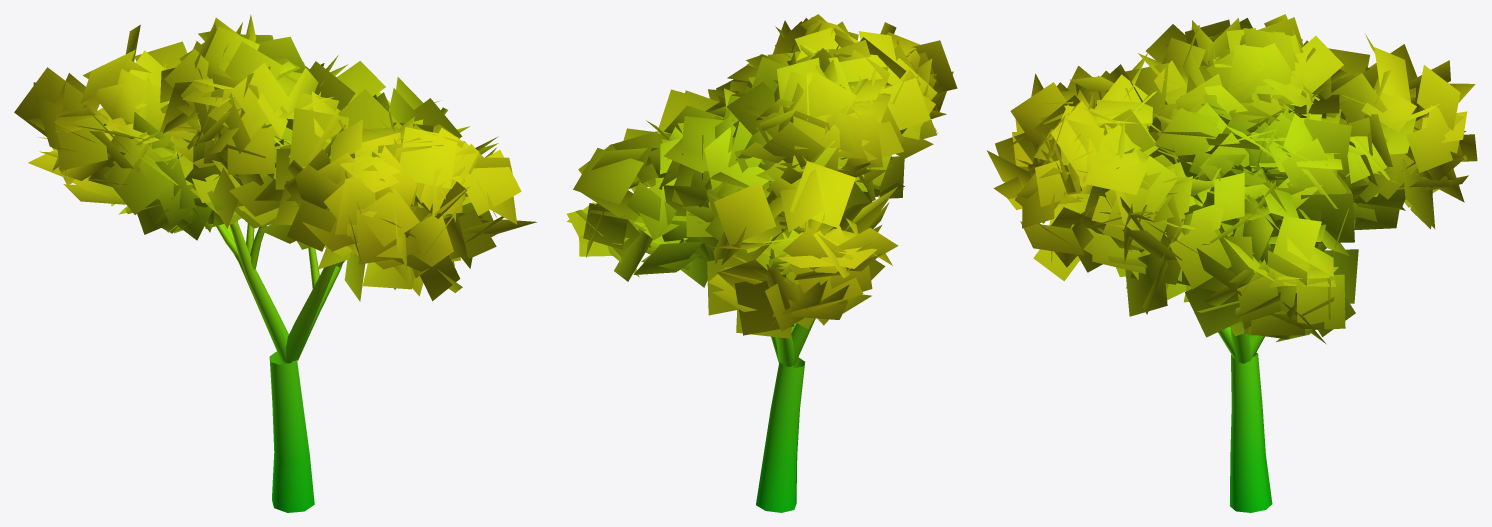
The model's file is keyaki_b.glb.
3 views of the same model, side by side, from view 1: azimuth 30°, elevation 25°; view 2: azimuth 150°, elevation 25°; view 3: azimuth 270°, elevation 25° (orthographic). The views are drawn at different scales.
Parts seen in each view (by area): view 1: keyaki_b; view 2: keyaki_b; view 3: keyaki_b.
Boxes of the visible parts, x1,y1,x2,y2 form: keyaki_b: [14, 14, 536, 512]; keyaki_b: [566, 14, 957, 512]; keyaki_b: [987, 14, 1477, 512].
Size of the model in its own units: 7.11 by 8.65 by 8.29.
